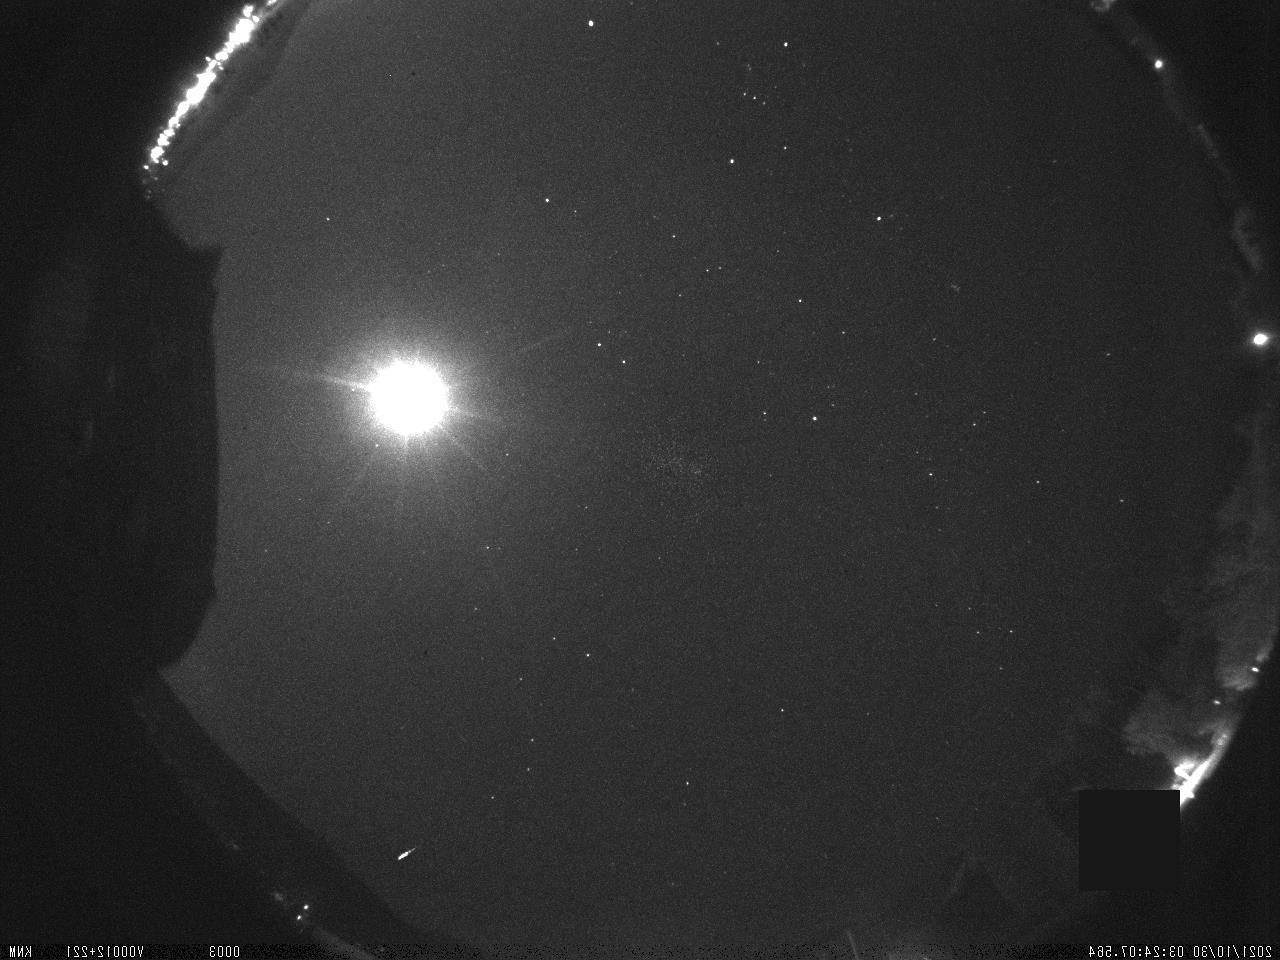meteor: (388, 832, 429, 875)
